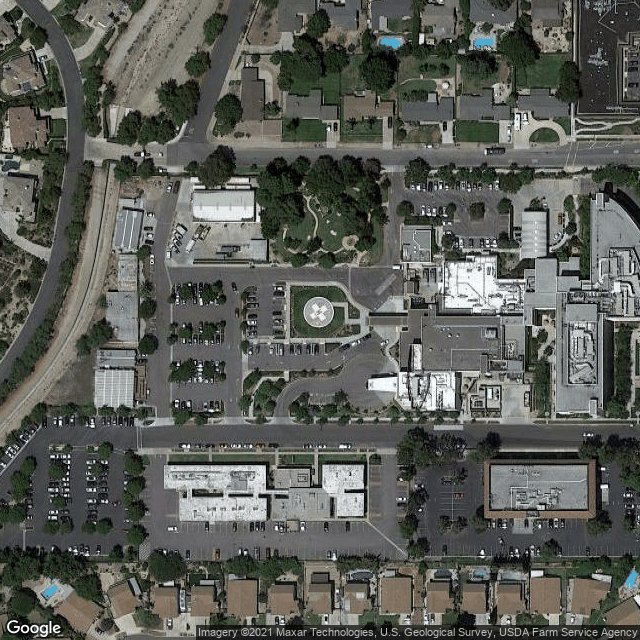Helipad: (300, 294, 337, 330)
